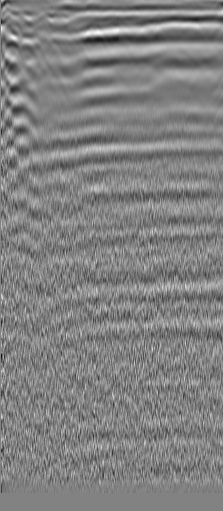가스: (210, 200, 223, 222)
오수: (32, 11, 52, 31)
우수: (165, 17, 185, 37)
